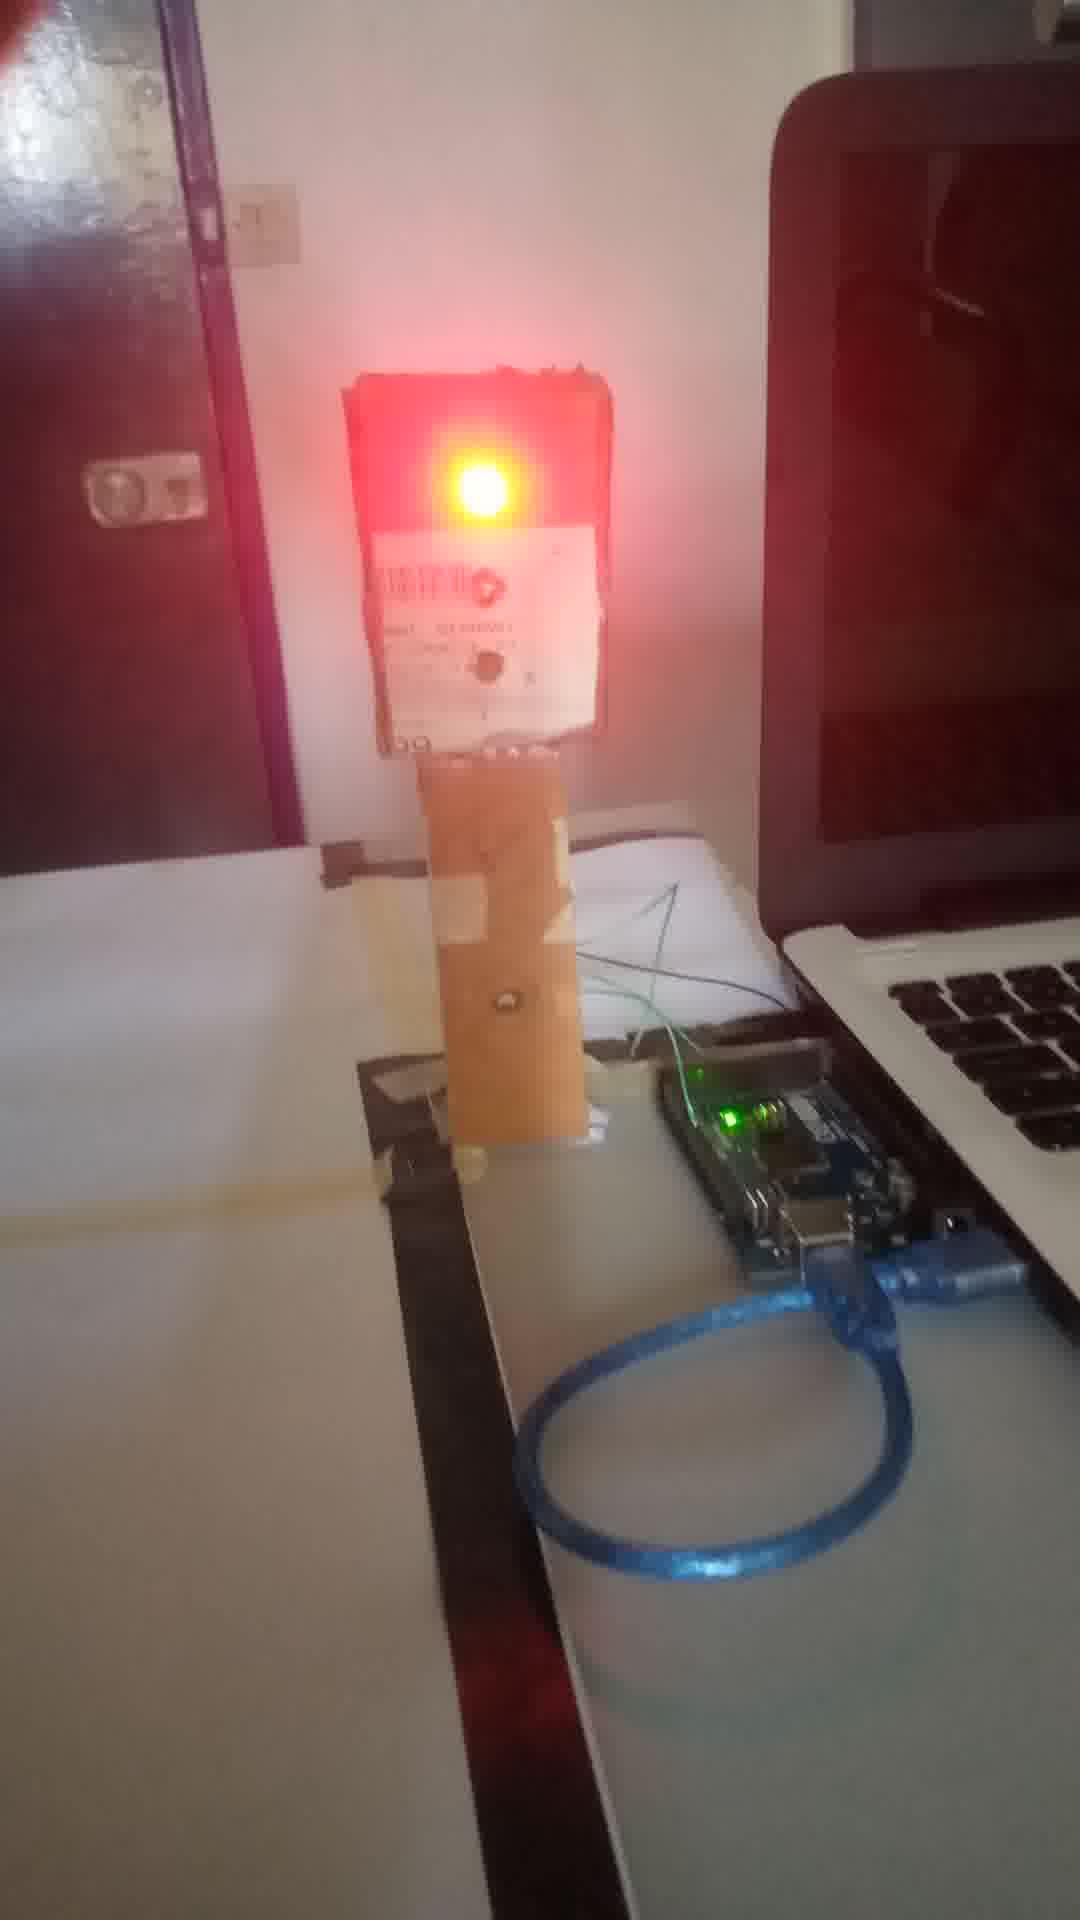red: (355, 392, 597, 742)
